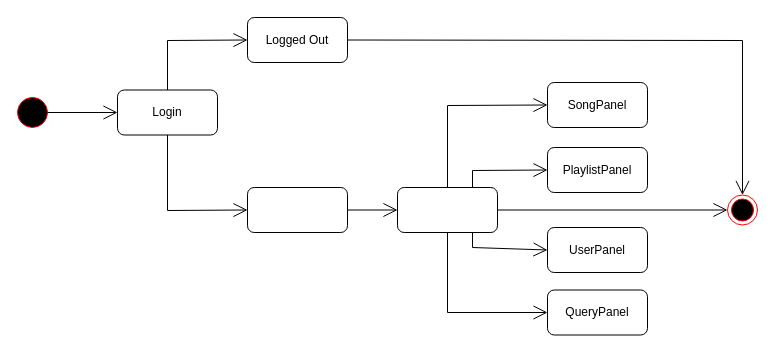
The diagram is 775 pixels wide and 353 high, and some of its shapes have lost their labels. Here are the shapes that lost their labels. From the top down, the centre of each, then its label:
At (297,209): "Logged In".
At (447,209): "MenuPanel".
